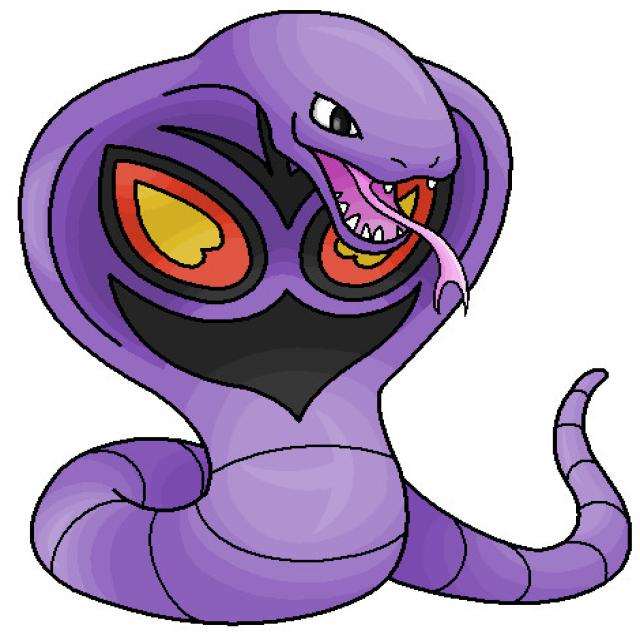Arbok: (35, 8, 519, 599)
